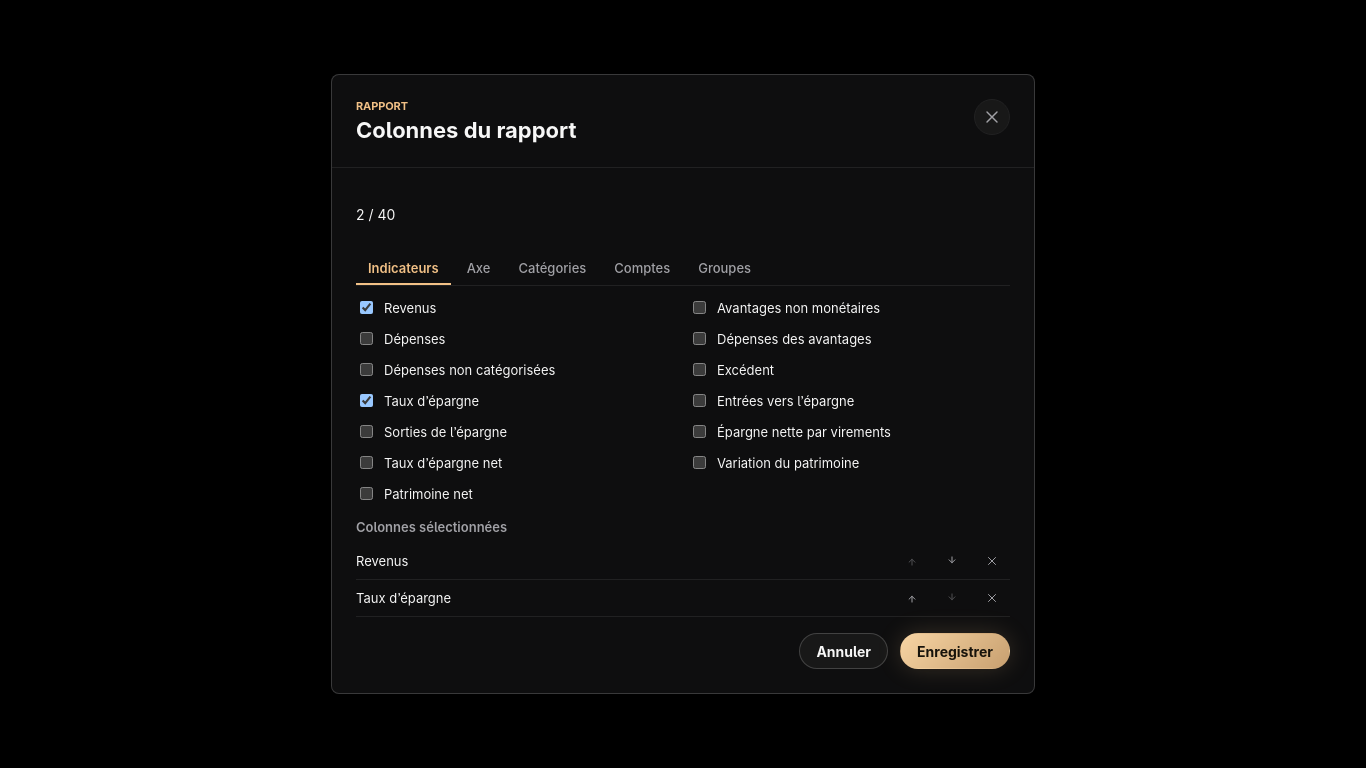
it: ColumnPickerModal › removes a column from the selection and lets it come back at the end
The image size is (1366, 768).
Click the button named "Retirer". click: (992, 561)
box: [974,543,1010,579]
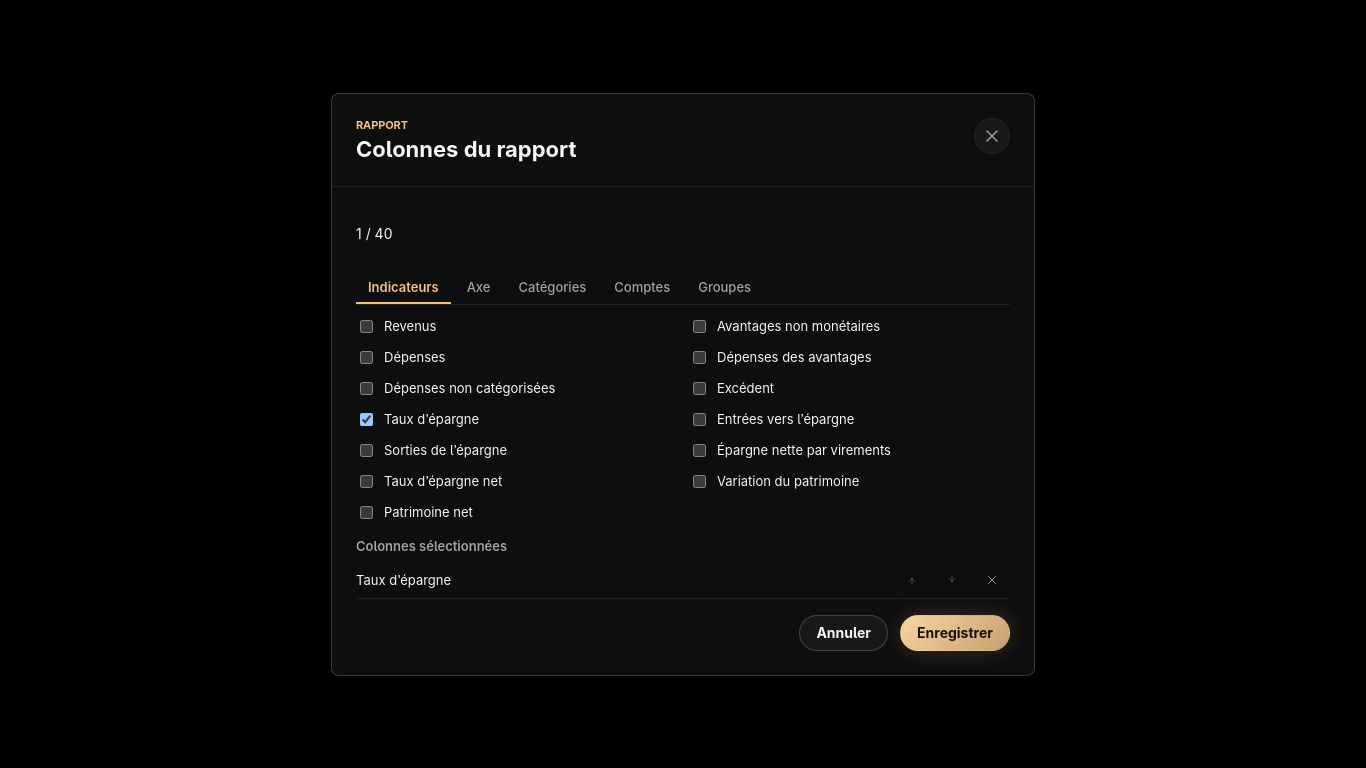
Now the number of list items is 1, box [356,562,1010,598]
Click the tab "Catégories". click: (552, 288)
box: [506,272,598,304]
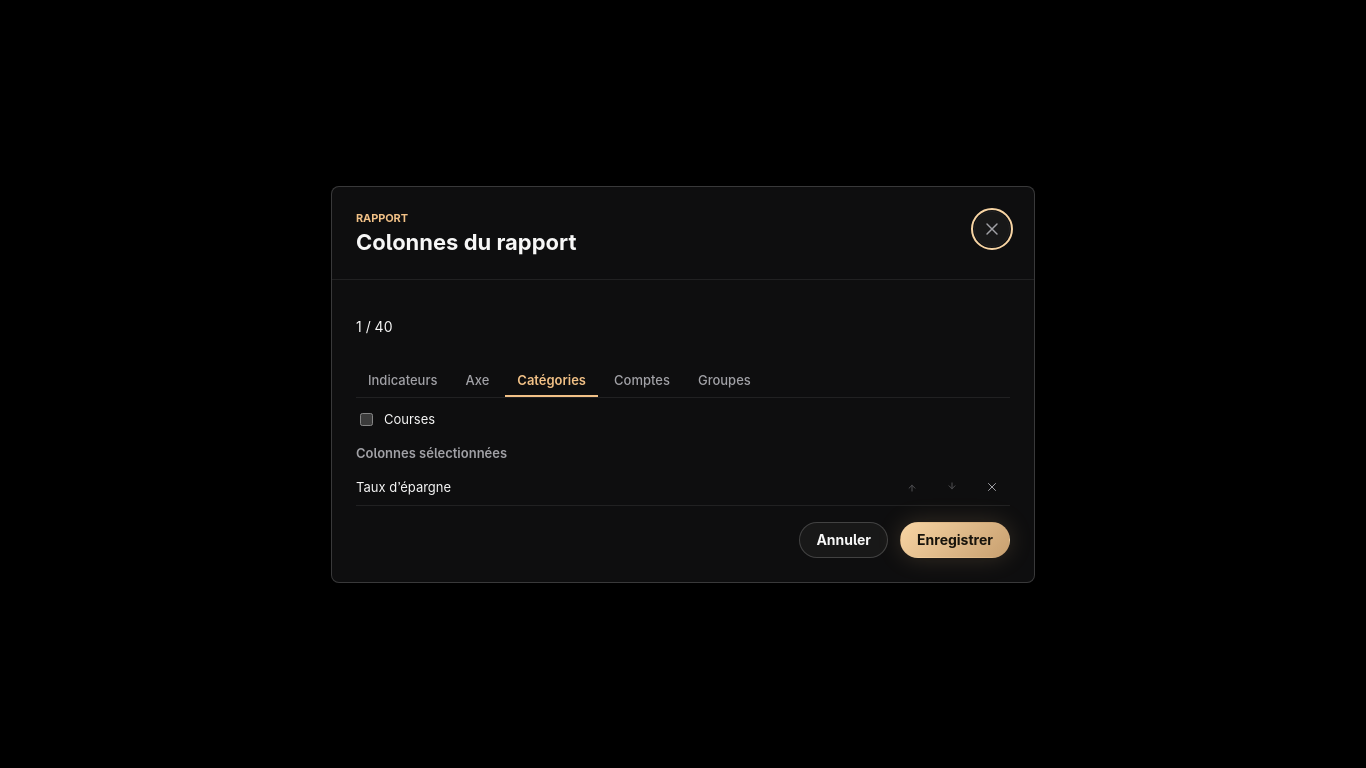
Click the checkbox labelled "Courses". click: (366, 419)
box: [360,412,373,426]
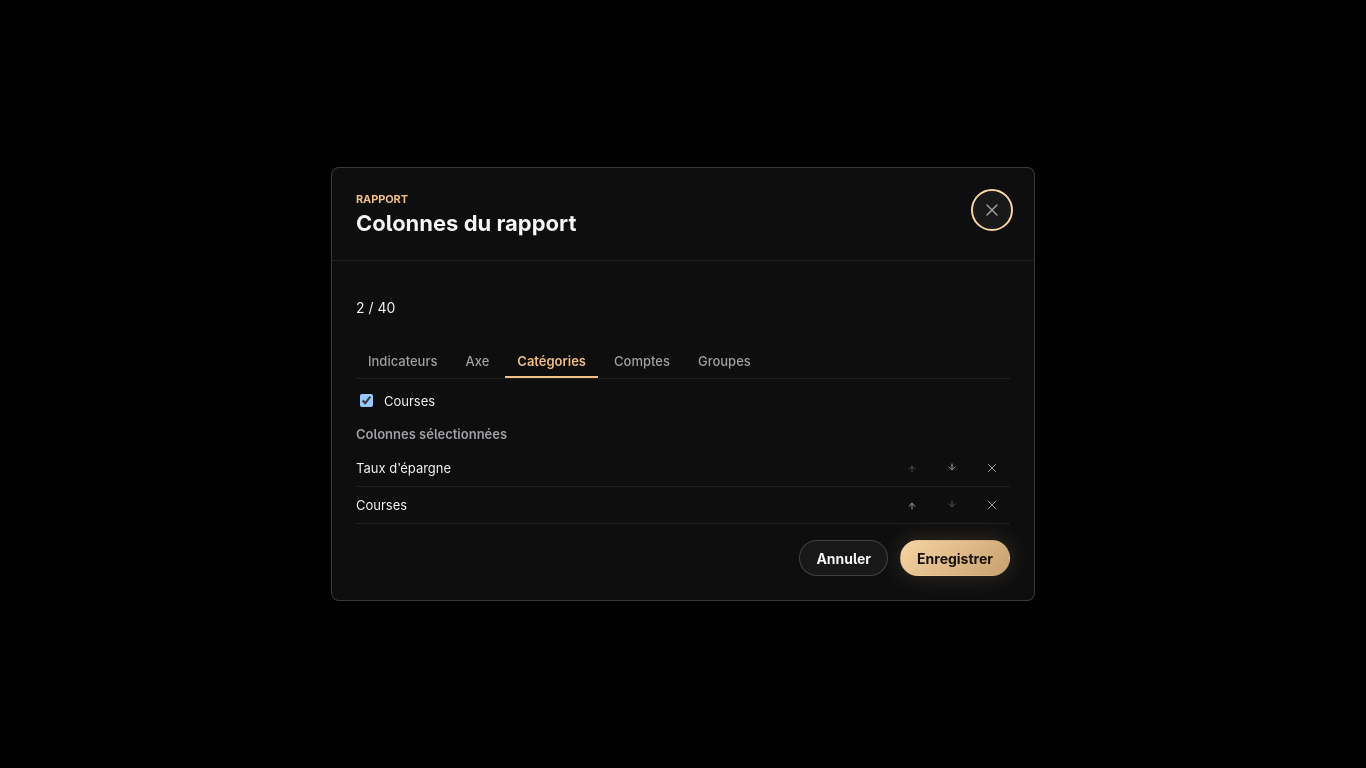
Now the list item "Courses" is shown, box [356,487,1010,524]
